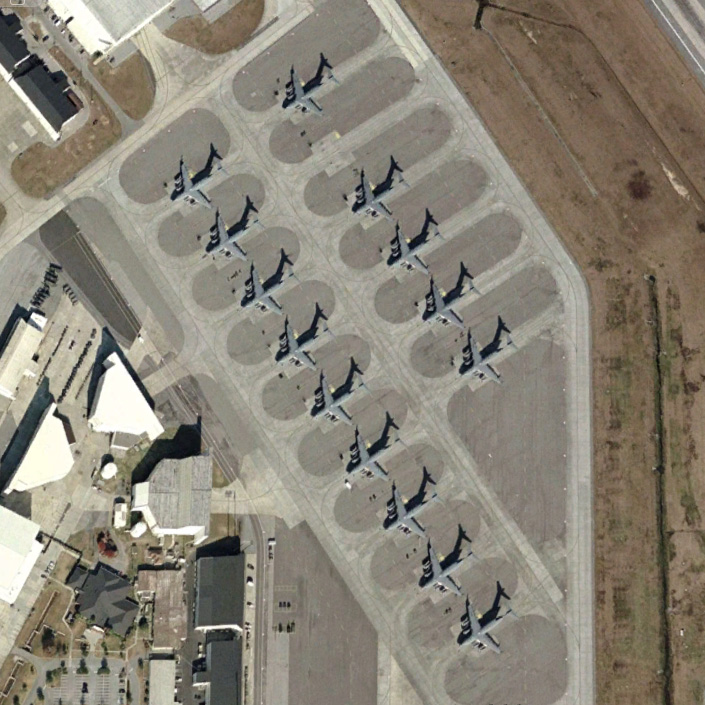A3: (458, 600, 520, 656), (382, 485, 446, 539), (170, 153, 229, 209), (387, 221, 447, 276), (458, 331, 518, 385), (276, 318, 337, 371), (241, 263, 302, 315), (310, 374, 372, 425), (423, 278, 485, 329), (347, 428, 407, 480), (419, 544, 479, 596), (353, 165, 411, 218), (204, 211, 263, 262), (283, 65, 340, 116)
